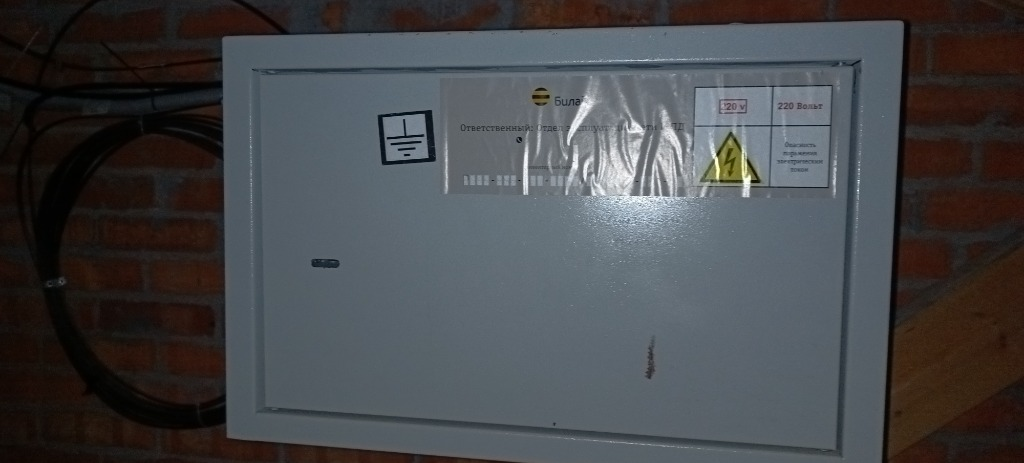shta-7m: (217, 20, 914, 460)
